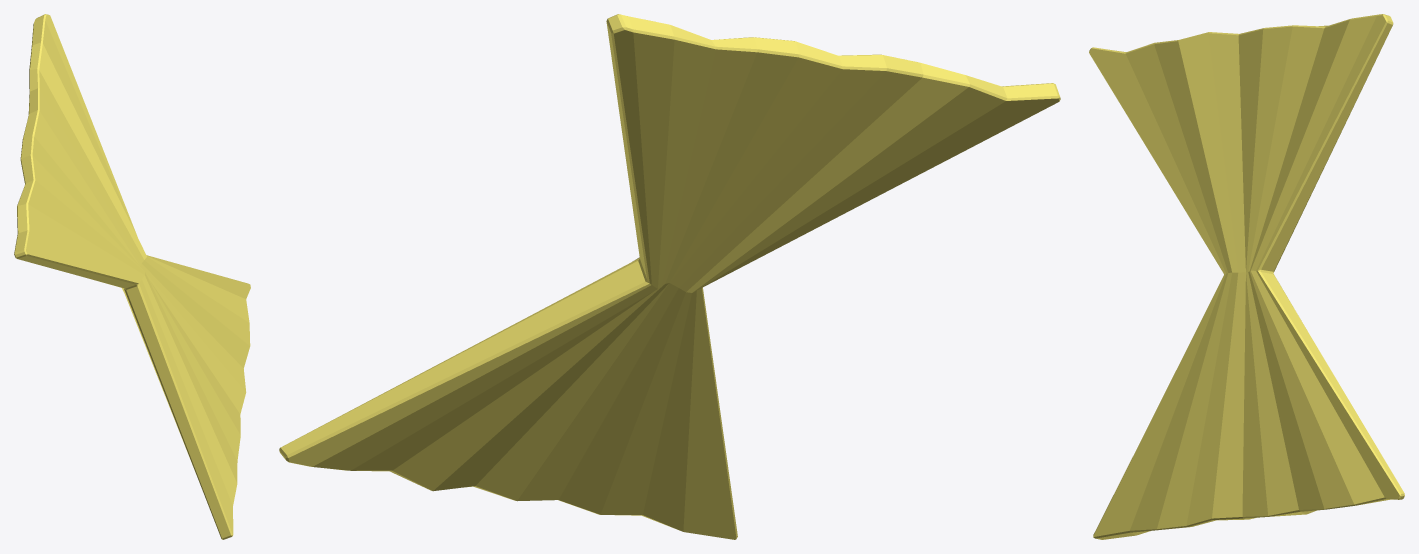
3 renders of one model, left to right at view 1: azimuth 30°, elevation 25°; view 2: azimuth 150°, elevation 25°; view 3: azimuth 270°, elevation 25°, orthographic. The views are drawn at different scales.
Parts seen in each view (by area): view 1: Plane.001; view 2: Plane.001; view 3: Plane.001.
Part boxes in pixels (x1=…): Plane.001: x1=14, y1=14, x2=250, y2=539; Plane.001: x1=279, y1=14, x2=1060, y2=539; Plane.001: x1=1089, y1=14, x2=1404, y2=539.
Size of the model in its own units: 1.63 by 1.87 by 1.08.
